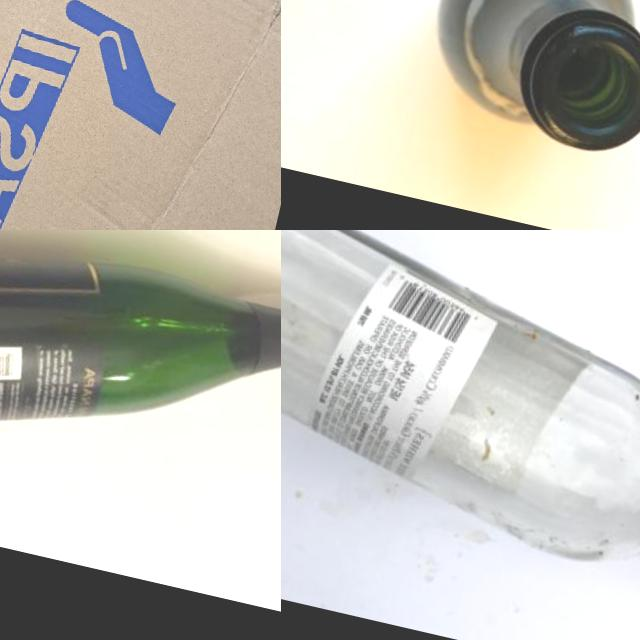garrafa de vidro: (281, 230, 640, 584), (0, 230, 281, 524), (502, 0, 640, 159)
papelão: (0, 0, 281, 230)
